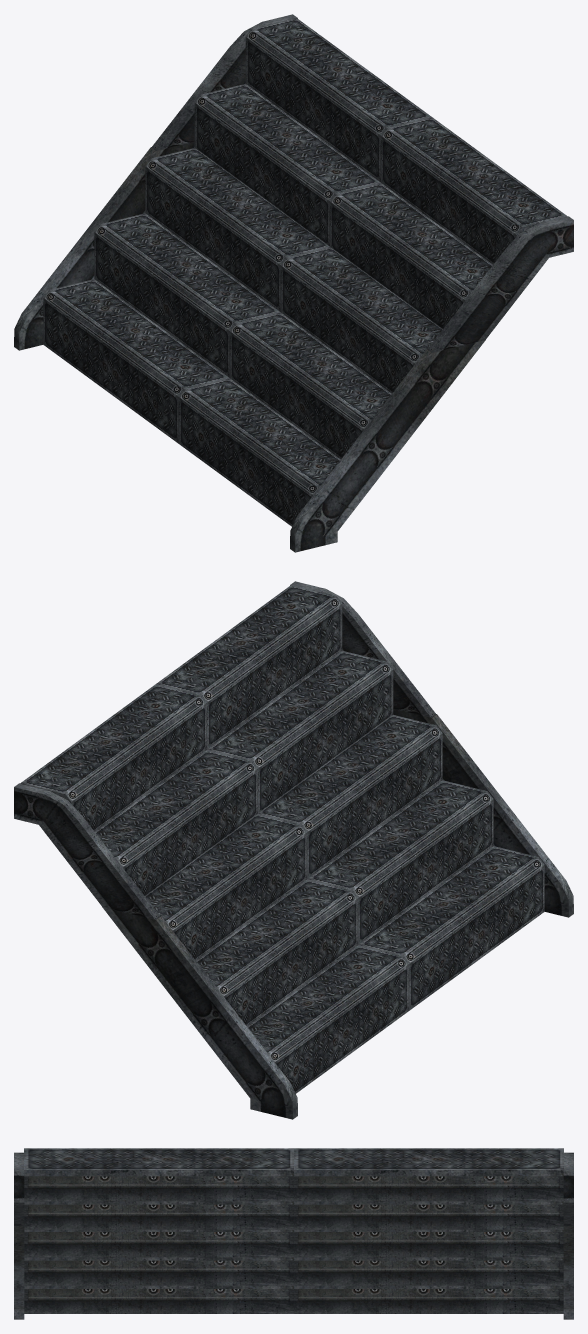
File: metal_pplant_wide_short.dae
3 views of the same model, one above another, from view 1: azimuth 30°, elevation 25°; view 2: azimuth 150°, elevation 25°; view 3: azimuth 270°, elevation 25° (orthographic).
Parts seen in each view (by area): view 1: polySurface1000; view 2: polySurface1000; view 3: polySurface1000.
Part boxes in pixels (x1,y1,x2,y2): polySurface1000: [14, 14, 573, 552]; polySurface1000: [14, 581, 573, 1119]; polySurface1000: [14, 1148, 573, 1319].
Bounding box in the file's own units: 2.19 × 1.99 × 3.82.
